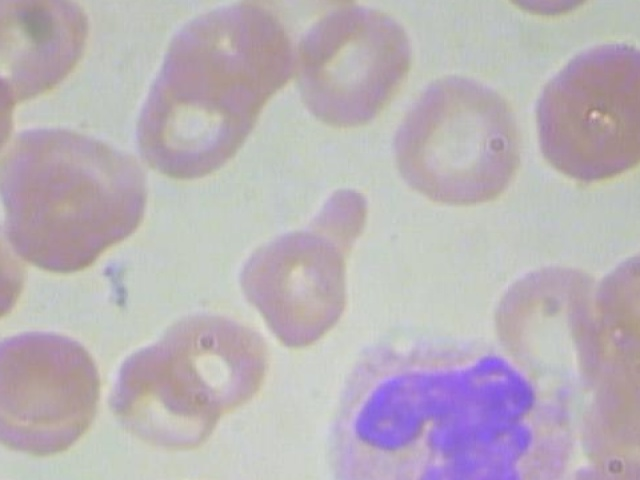RBC: (231, 175, 387, 350), (391, 62, 530, 217), (525, 37, 640, 188), (5, 146, 137, 275), (128, 51, 259, 180), (285, 0, 417, 127), (0, 323, 109, 455), (105, 334, 222, 455), (0, 0, 98, 112), (477, 0, 605, 23)
WBC: (320, 323, 585, 480)
